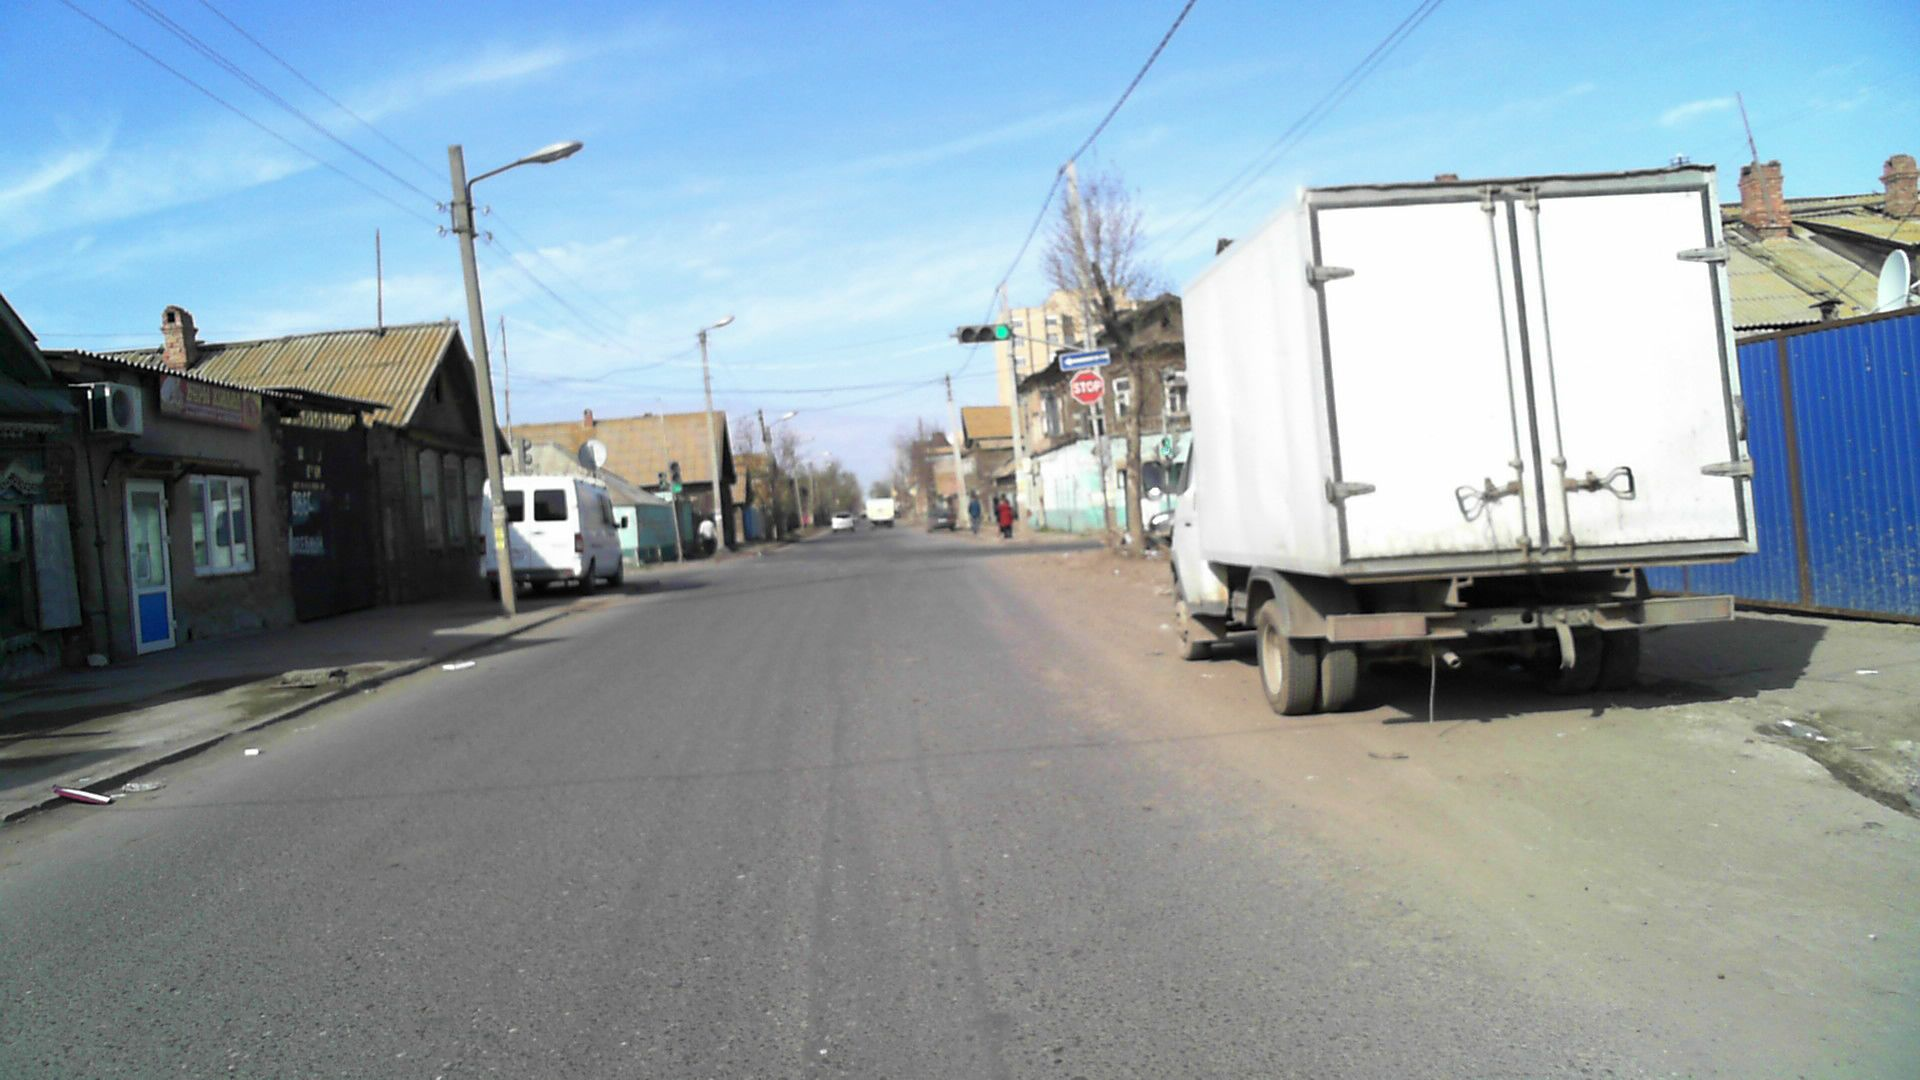One-Way Traffic: (1060, 349, 1109, 371)
